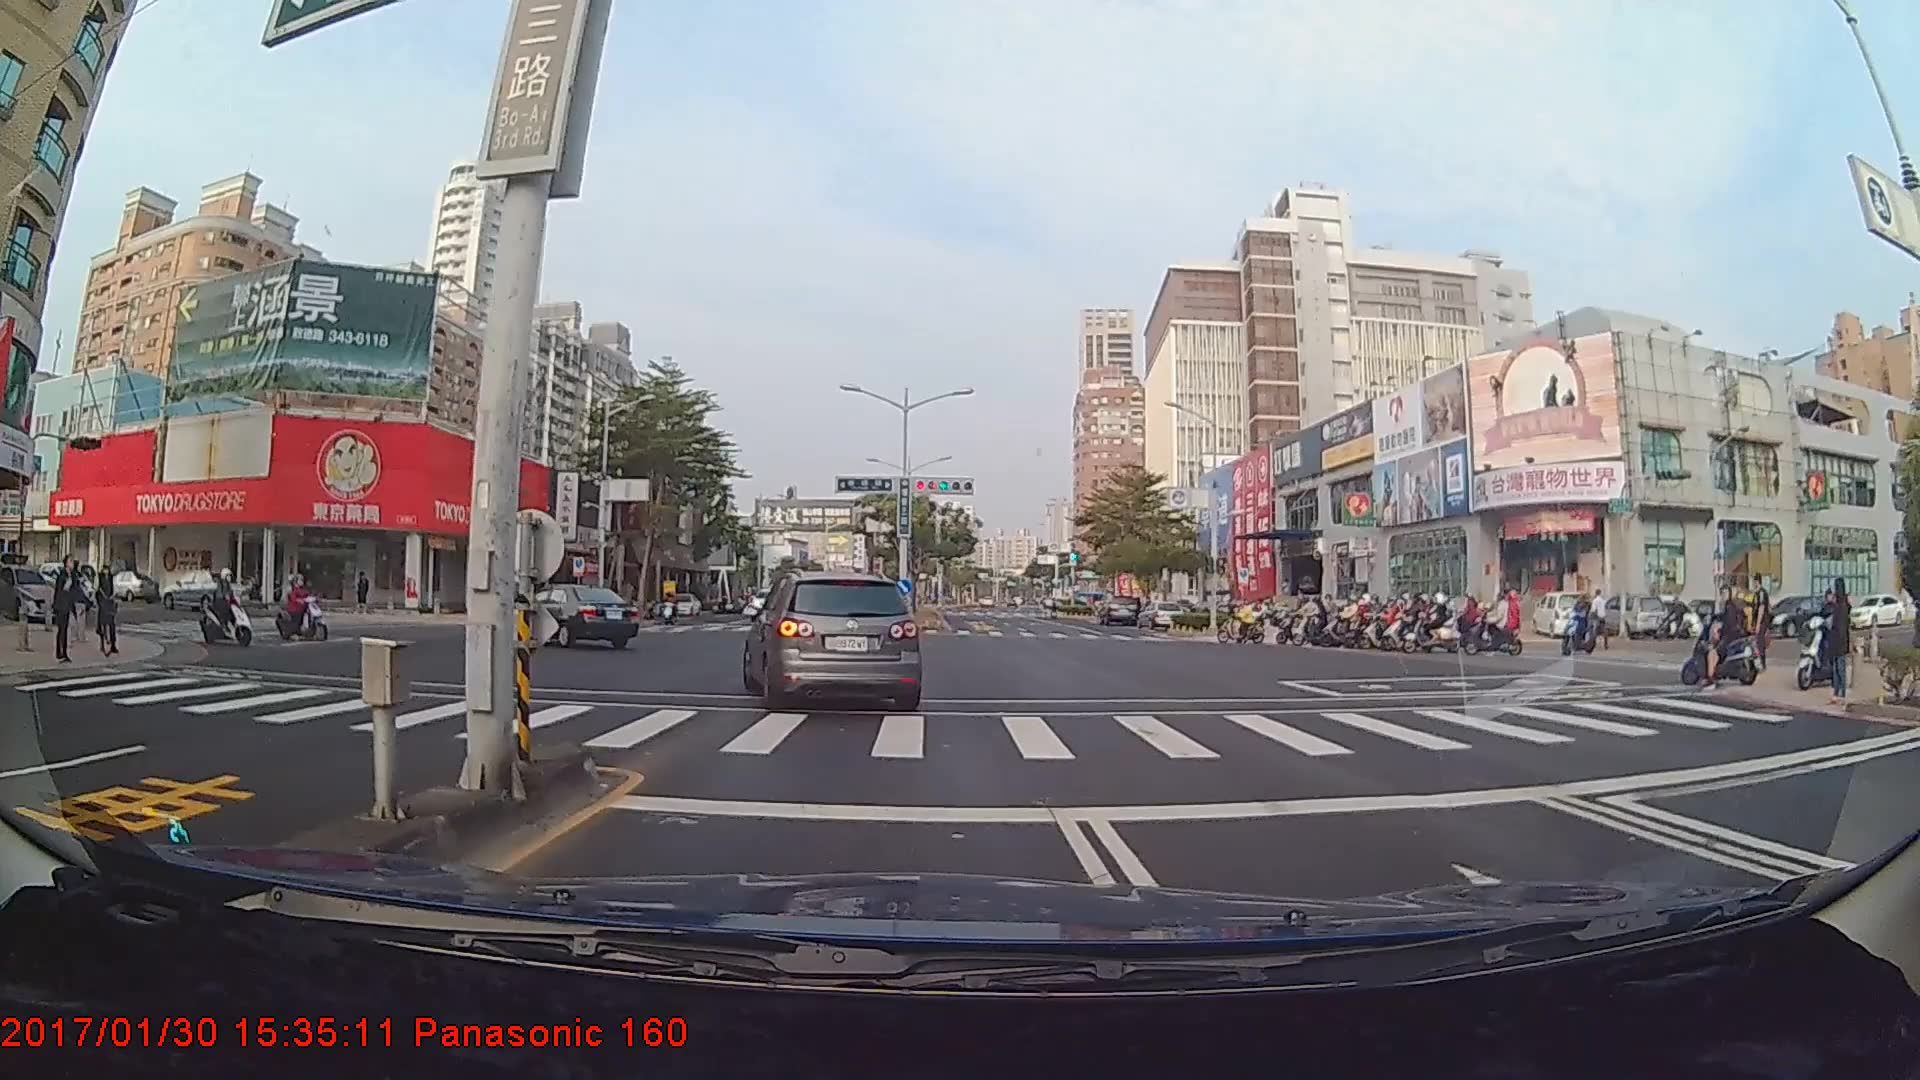pedestrian: (1825, 573, 1861, 708), (49, 553, 79, 665), (1747, 572, 1776, 676)
rider: (1682, 581, 1773, 690), (1796, 584, 1864, 691), (197, 565, 266, 650), (1464, 584, 1530, 661), (272, 575, 334, 642), (87, 557, 121, 662), (1273, 593, 1330, 644), (1421, 592, 1469, 652), (1559, 594, 1606, 653), (1392, 593, 1442, 645), (1217, 599, 1274, 643), (1339, 597, 1386, 648), (1371, 600, 1415, 647), (657, 584, 685, 621)
vehicle: (740, 570, 924, 708), (513, 584, 638, 650), (159, 568, 245, 611), (1097, 596, 1140, 627)
